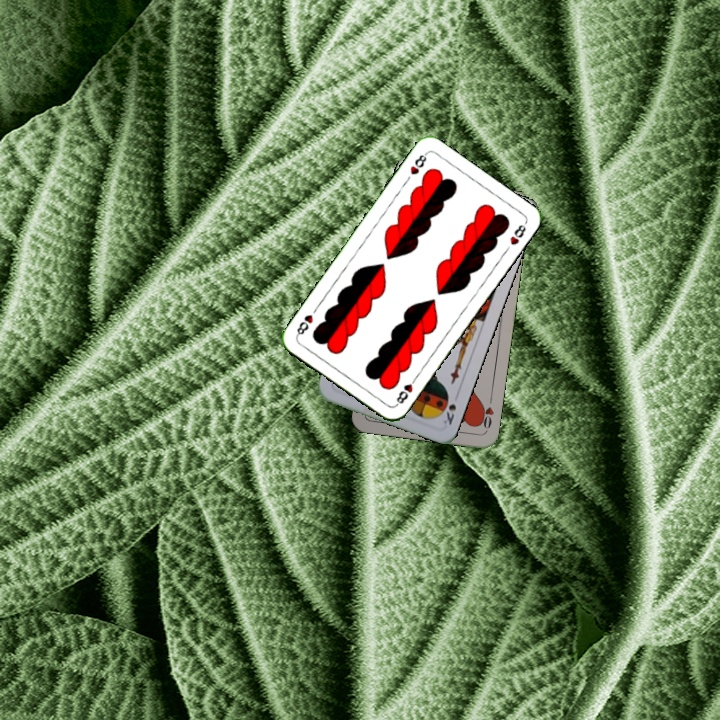H8: (392, 372, 420, 408), (406, 149, 430, 177)
HO: (475, 392, 496, 433)
SK: (439, 389, 461, 428)
